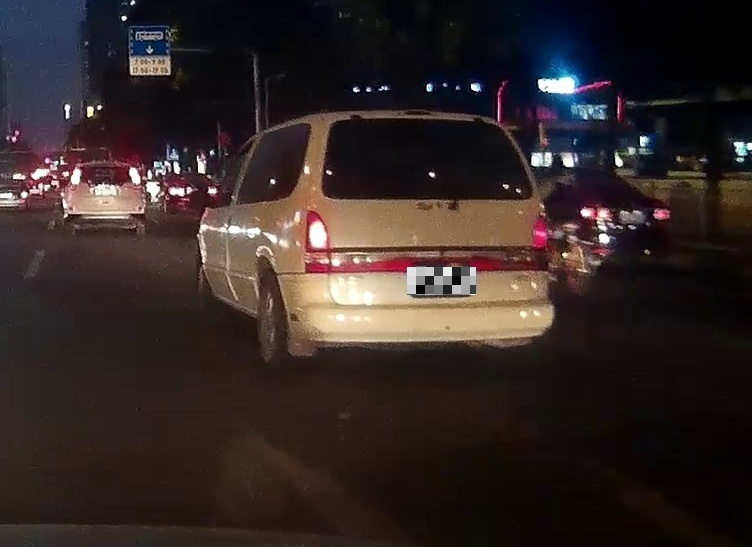L_light: (304, 210, 329, 273), (580, 207, 613, 222), (68, 167, 82, 191)
R_light: (531, 215, 550, 271), (128, 167, 142, 189), (651, 207, 671, 221)
T_light: (403, 117, 441, 123), (587, 169, 603, 173), (95, 163, 115, 166)
night-no: (296, 110, 554, 364), (568, 167, 672, 252), (67, 161, 146, 238)
plate_1: (407, 267, 476, 295)
